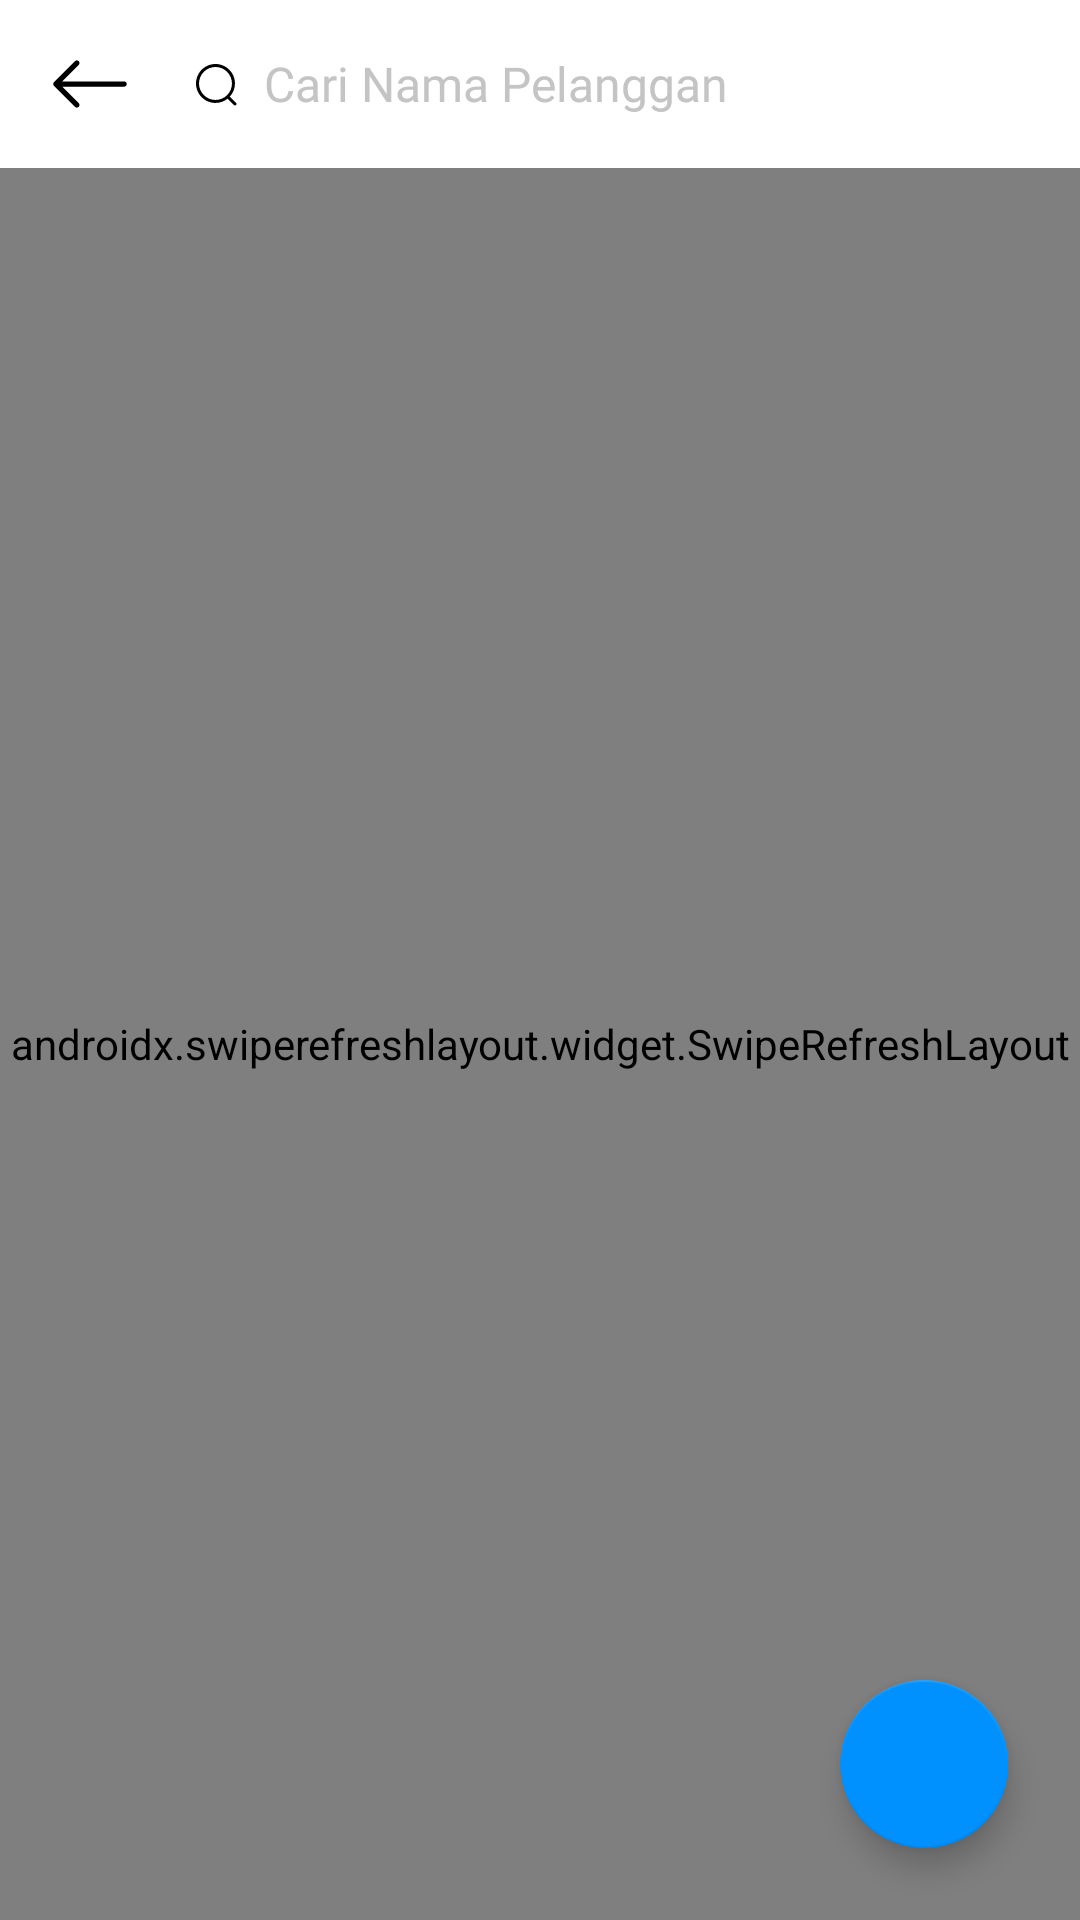

Screen size 1080px x 1920px. Icon name, then its center in pixels as (x,y):
back: (90,84)
search: (216,85)
